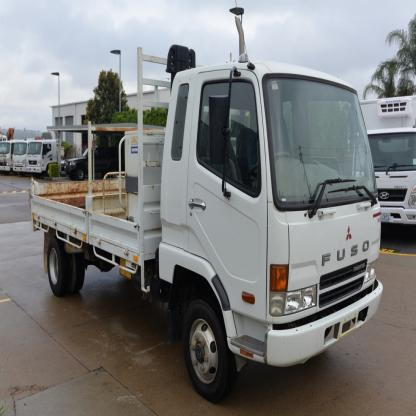truck: (30, 47, 383, 395)
